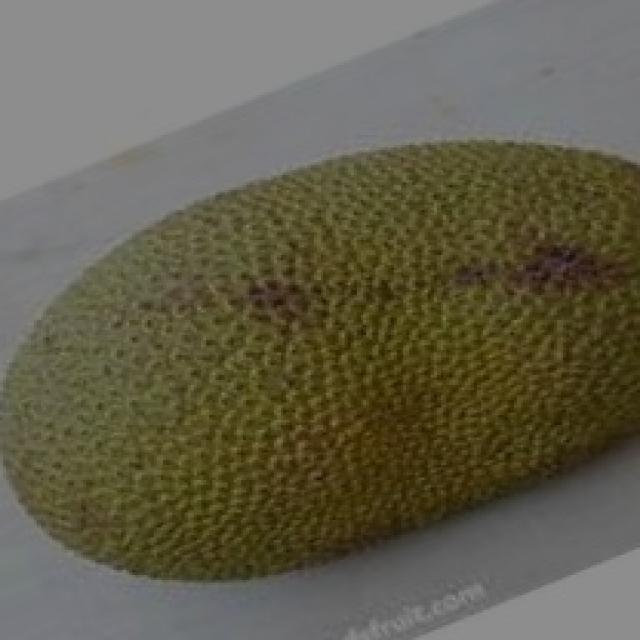Fruit: (0, 203, 397, 625), (221, 120, 640, 387)
